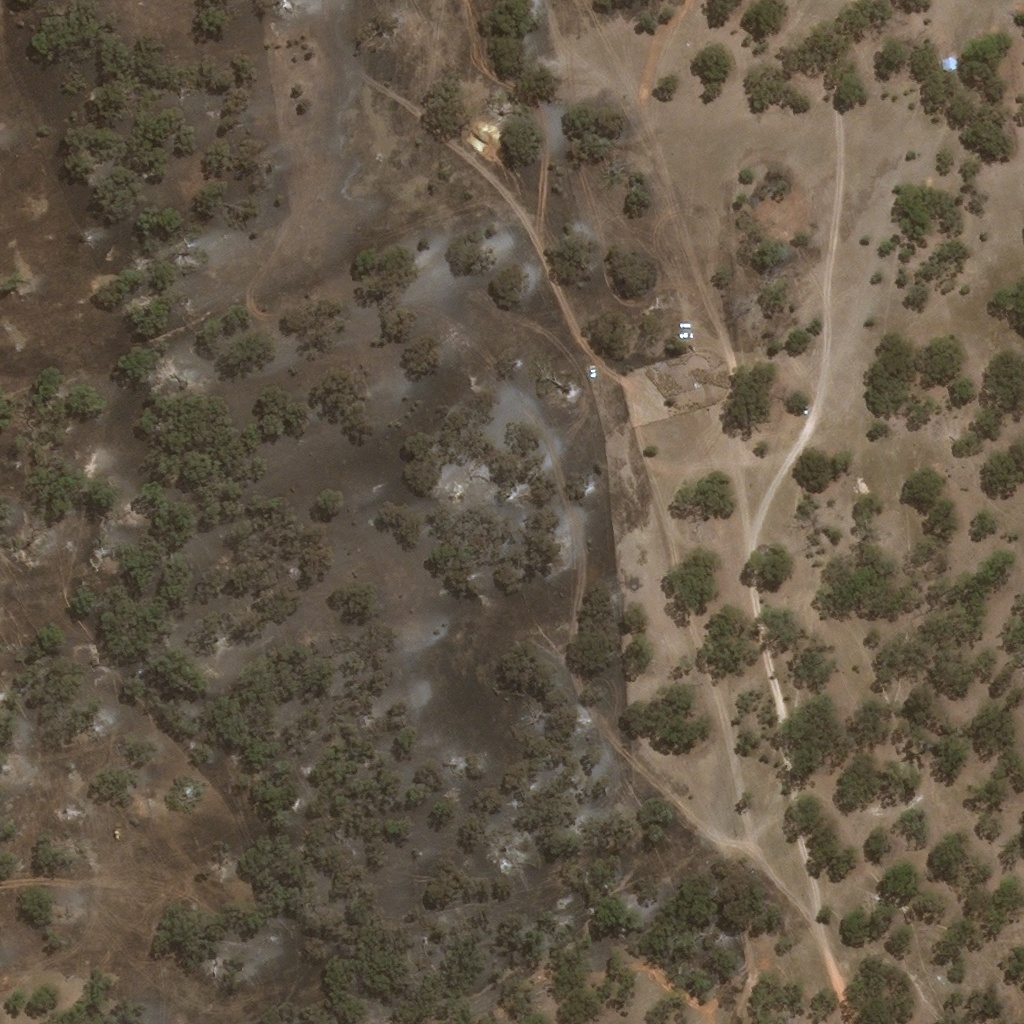0 no-damage: (938, 61, 953, 74)
